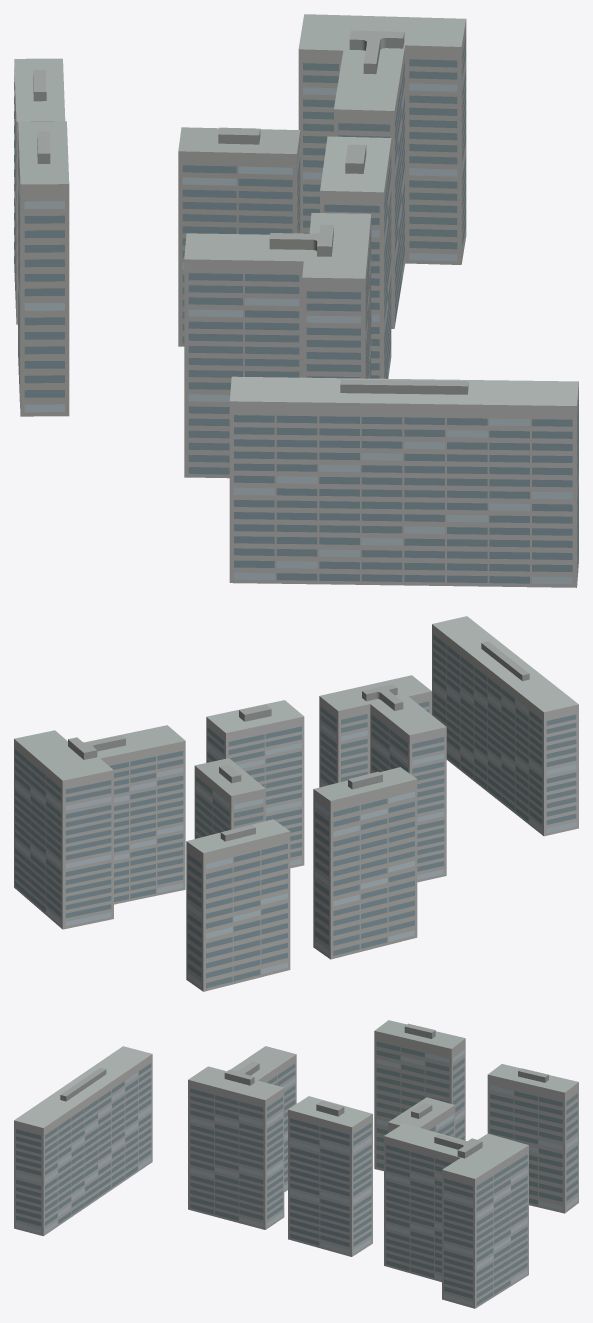
File: apt-a15786314.glb
3 renders of one model, top to bottom at view 1: azimuth 30°, elevation 25°; view 2: azimuth 150°, elevation 25°; view 3: azimuth 270°, elevation 25°, orthographic. The views are drawn at different scales.
Visible parts, largest first — view 1: apt-a15786314; view 2: apt-a15786314; view 3: apt-a15786314.
Boxes of the visible parts, x1=… form: apt-a15786314: x1=14, y1=14, x2=578, y2=587; apt-a15786314: x1=14, y1=616, x2=578, y2=991; apt-a15786314: x1=14, y1=1020, x2=578, y2=1308.
Size of the model in its own units: 117 by 51 by 181.
